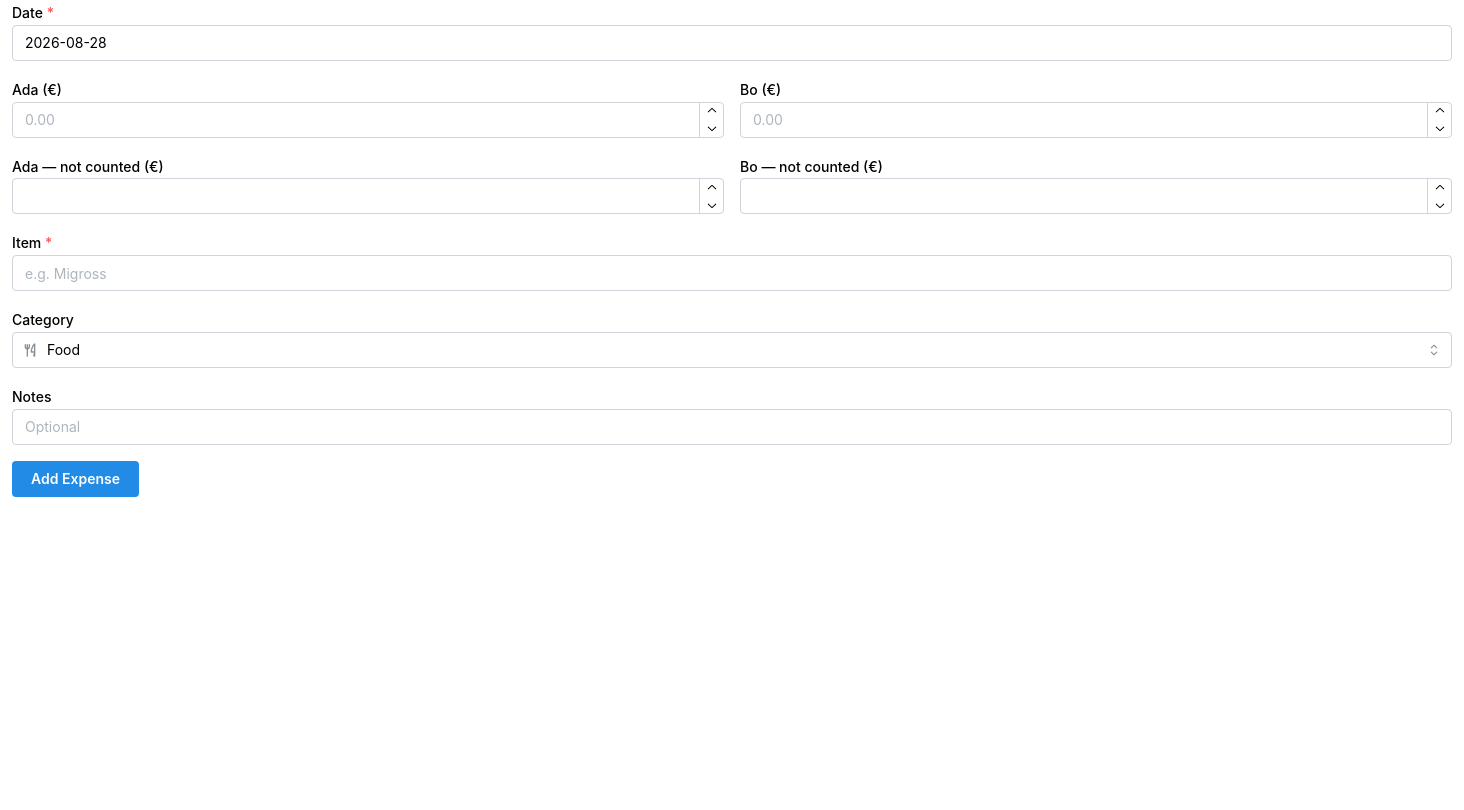
Test: ExpenseForm › refuses a row with no amount at all, which would record no spending
In the field labelled "Item": [732, 273] box 12,255 -> 1452,291, type "Bread"
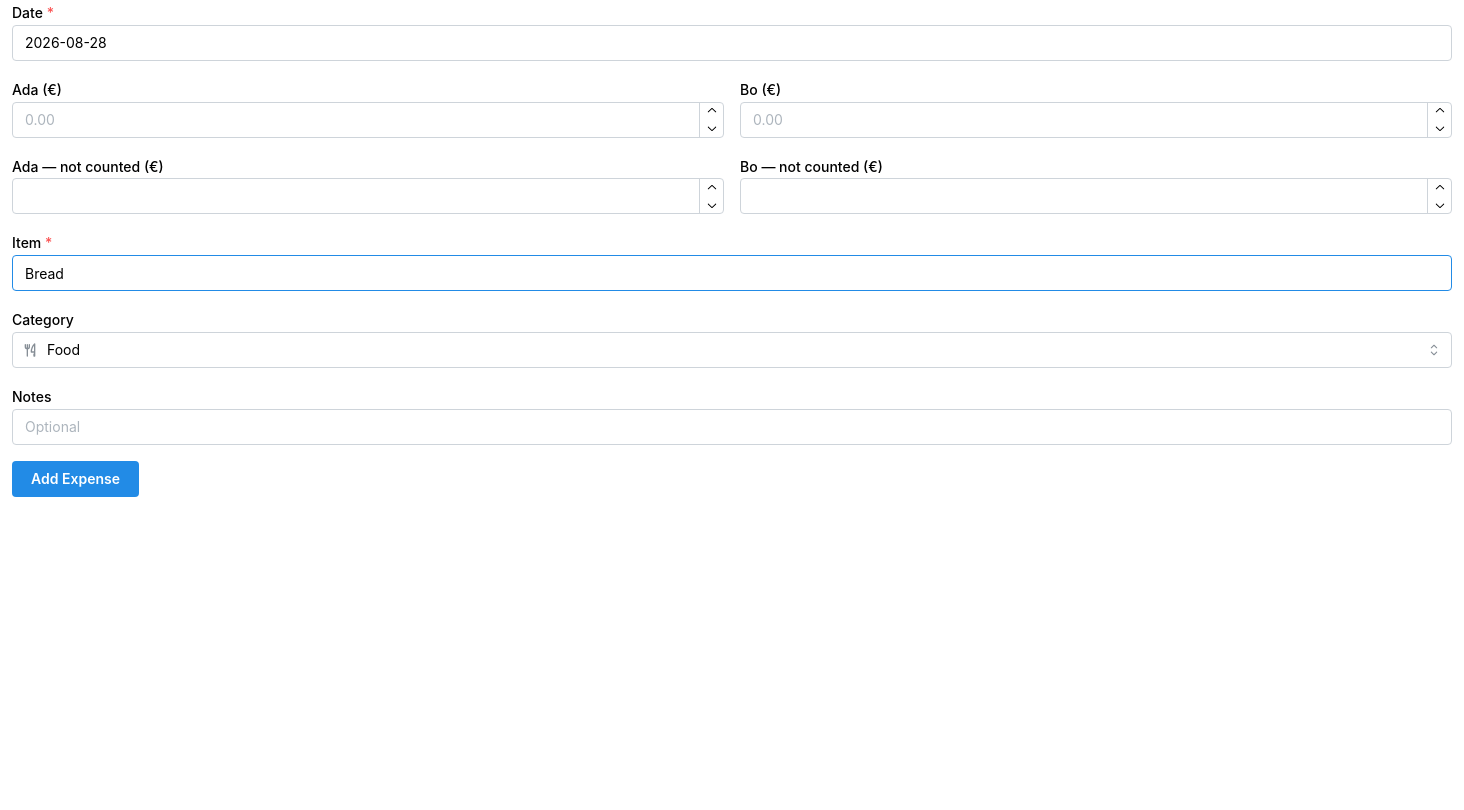
Click the button "Add Expense": [76, 479] box 12,461 -> 139,497
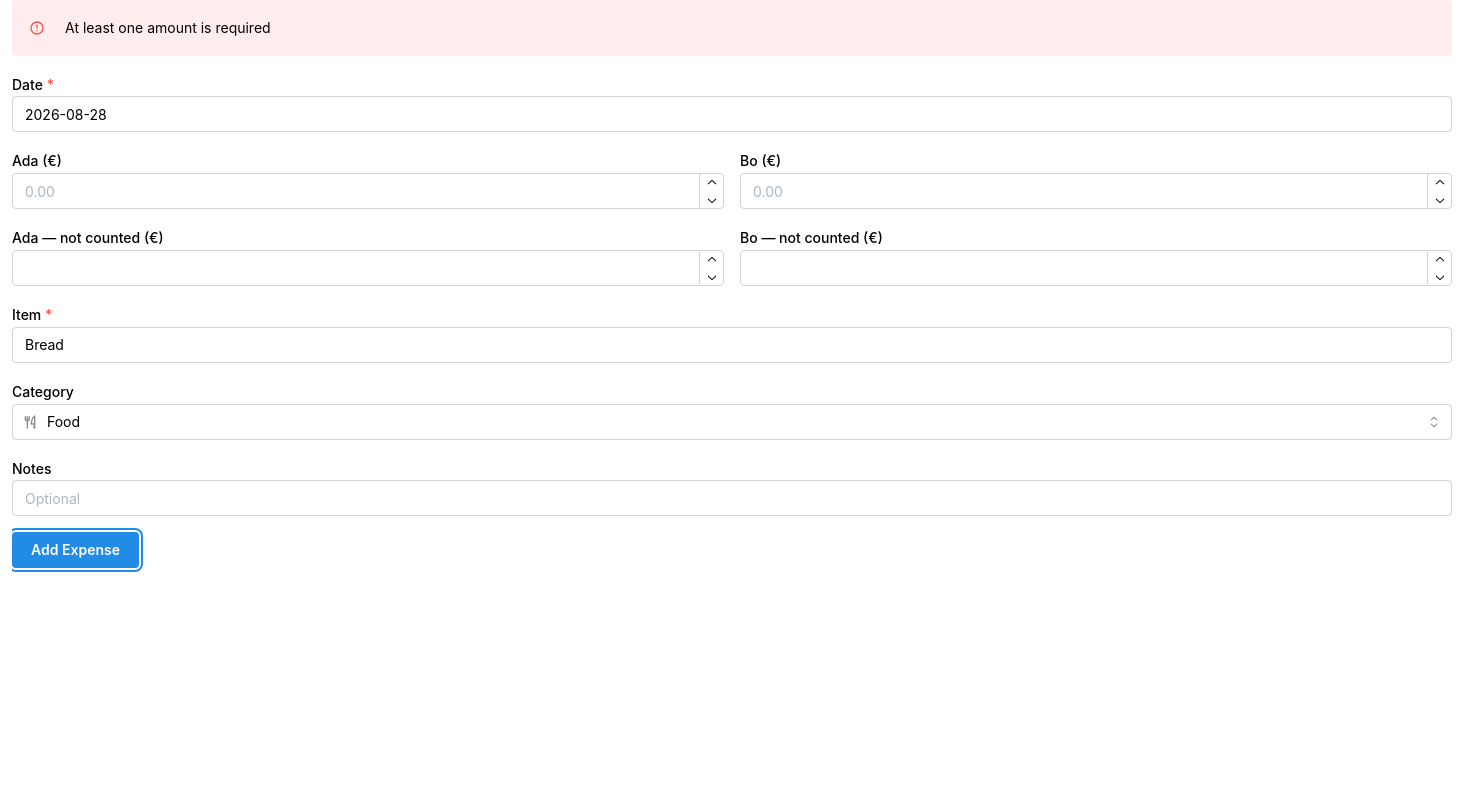
Result: the text "At least one amount is required" is shown at 65,19 -> 271,36
